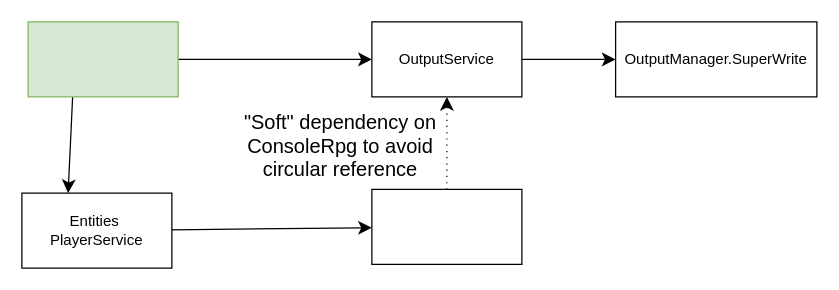
Some shapes in this 839 by 290 pixel diagram are drawn without their labels. The shapes that lost their labels are listed below. From the top down, each one's centre as x and y in pixels, then its label:
At pixel 102 59: "ConsoleRpg".
At pixel 446 226: "IOutputService".
